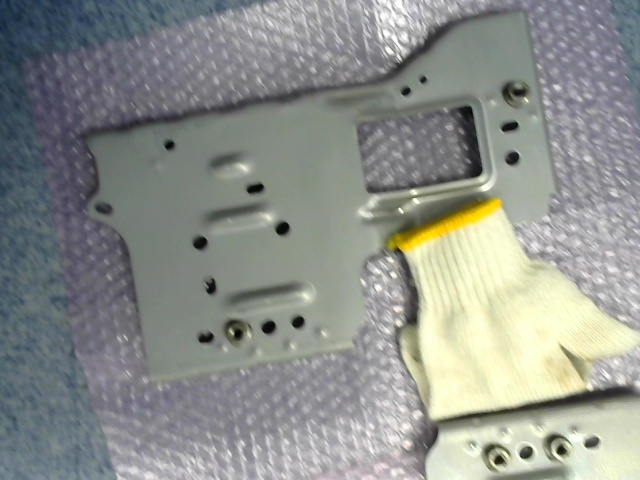dog: (500, 75, 532, 110), (223, 315, 255, 348), (543, 433, 573, 465), (482, 443, 512, 474)
